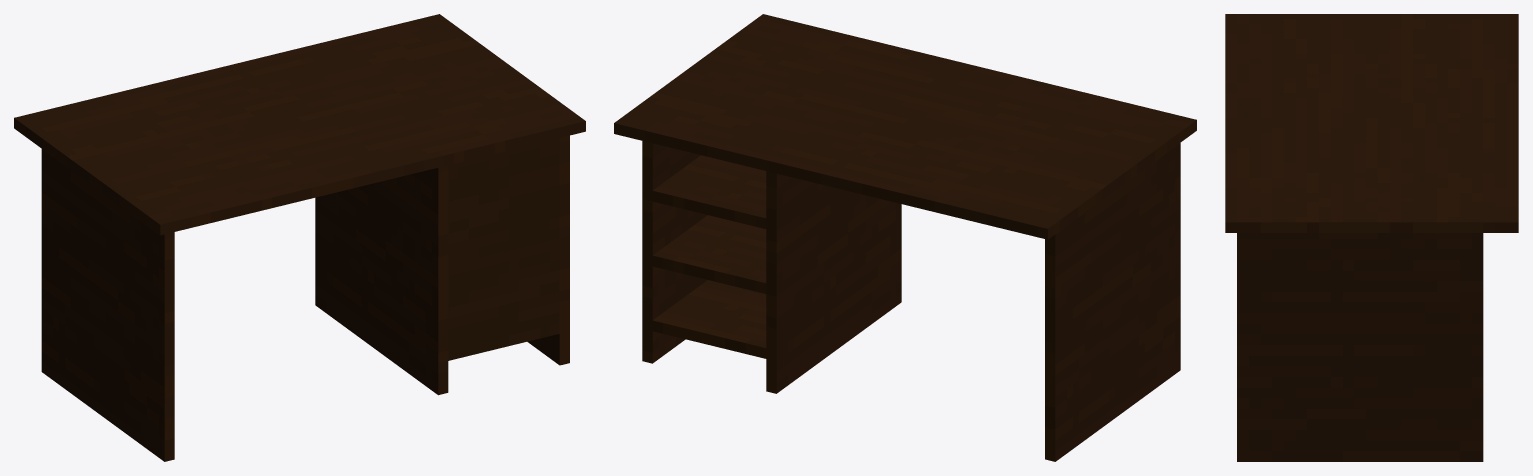
The picture shows the model from 3 angles, left to right: view 1: azimuth 30°, elevation 25°; view 2: azimuth 150°, elevation 25°; view 3: azimuth 270°, elevation 25°; orthographic projection.
Visible parts, largest first — view 1: cube (×5); view 2: cube (×7); view 3: cube (×2).
Part boxes in pixels (x1=…): cube (×5): x1=14, y1=14, x2=585, y2=461; cube (×7): x1=614, y1=14, x2=1196, y2=461; cube (×2): x1=1225, y1=14, x2=1518, y2=461.
Size of the model in its own units: 2.62 by 1.44 by 1.56.
Materials: 1 (1 with a texture image).
